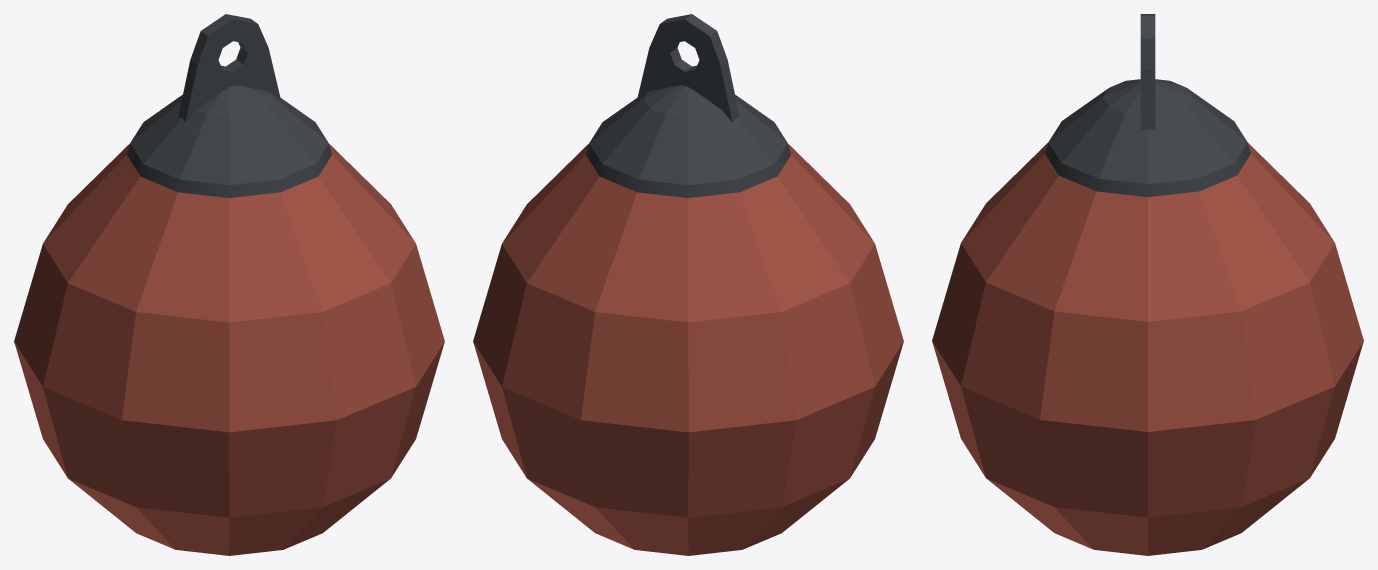
File: SM_Prop_Buoy_02.fbx
3 views of the same model, side by side, from view 1: azimuth 30°, elevation 25°; view 2: azimuth 150°, elevation 25°; view 3: azimuth 270°, elevation 25° (orthographic).
Parts seen in each view (by area): view 1: SM_Prop_Buoy_02; view 2: SM_Prop_Buoy_02; view 3: SM_Prop_Buoy_02.
Boxes of the visible parts, x1,y1,x2,y2 form: SM_Prop_Buoy_02: [14, 14, 444, 555]; SM_Prop_Buoy_02: [473, 14, 903, 555]; SM_Prop_Buoy_02: [932, 14, 1363, 555].
Size of the model in its own units: 101 by 135 by 101.
